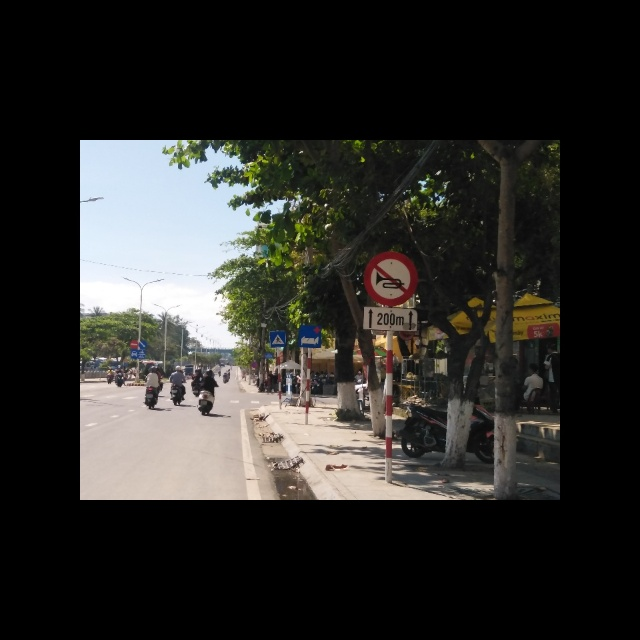Bệnh viện: (298, 324, 322, 348)
Cấm bấm còi: (365, 250, 418, 305)
Đường dành cho người đi bộ: (269, 331, 286, 348)
